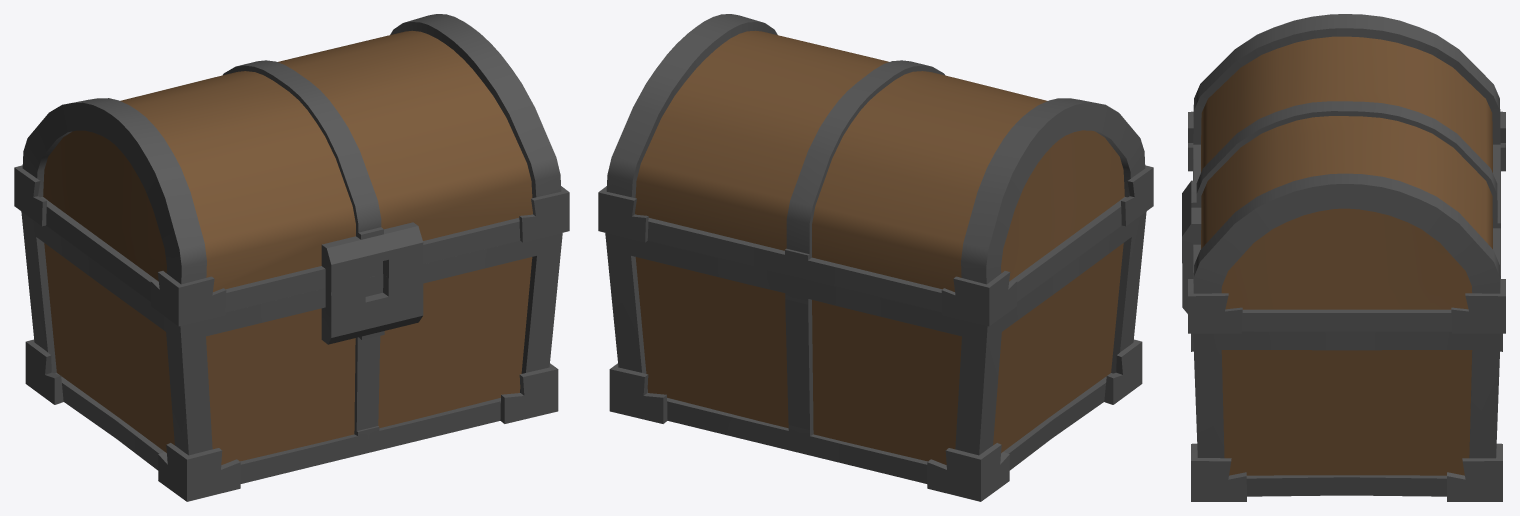
File: Bau.fbx
3 views of the same model, side by side, from view 1: azimuth 30°, elevation 25°; view 2: azimuth 150°, elevation 25°; view 3: azimuth 270°, elevation 25° (orthographic). The views are drawn at different scales.
Visible parts, largest first — view 1: polySurface7; view 2: polySurface7; view 3: polySurface7.
Part boxes in pixels (bbox=[...]): polySurface7: bbox=[14, 14, 569, 501]; polySurface7: bbox=[598, 14, 1153, 501]; polySurface7: bbox=[1182, 14, 1505, 501].
Bounding box in the file's own units: 4.72 × 3.76 × 3.5.
